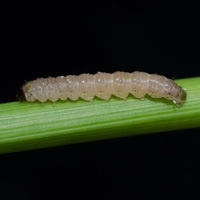insect: (23, 71, 185, 103)
